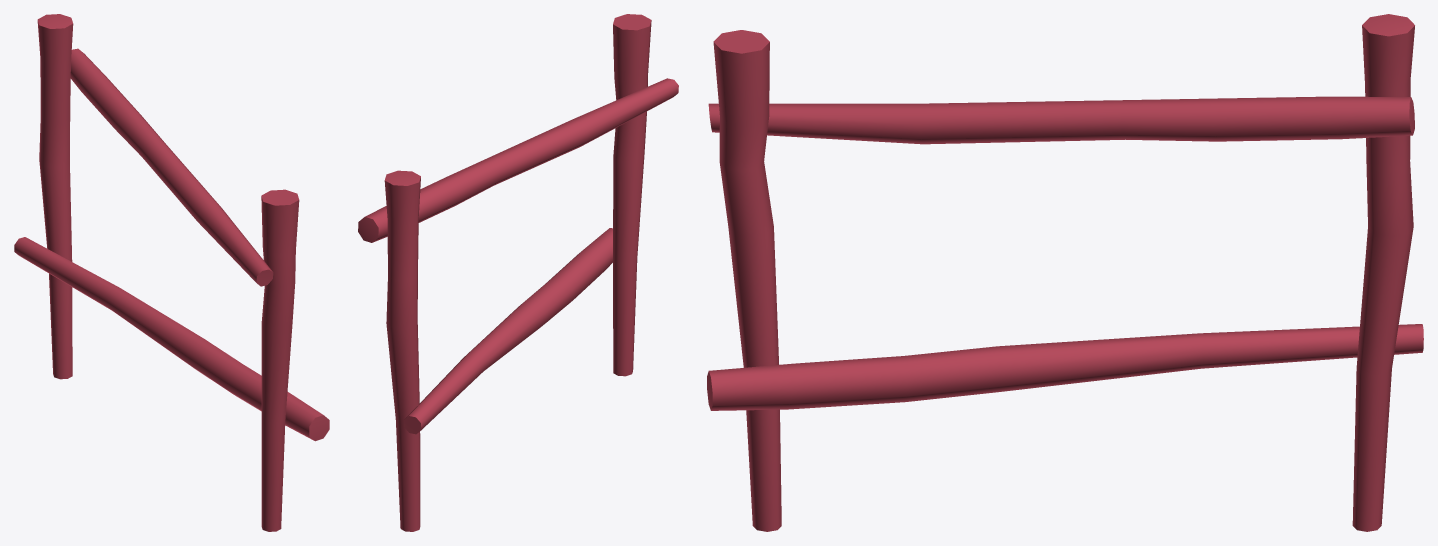
The model's file is fence_02.fbx.
3 views of the same model, side by side, from view 1: azimuth 30°, elevation 25°; view 2: azimuth 150°, elevation 25°; view 3: azimuth 270°, elevation 25° (orthographic). The views are drawn at different scales.
Visible parts, largest first — view 1: pCylinder13; view 2: pCylinder13; view 3: pCylinder13.
Boxes of the visible parts, left/top/right/bottom form: pCylinder13: left=14, top=14, right=329, bottom=531; pCylinder13: left=358, top=14, right=678, bottom=531; pCylinder13: left=707, top=14, right=1423, bottom=531.
Size of the model in its own units: 0.2007 by 0.9097 by 1.17.
